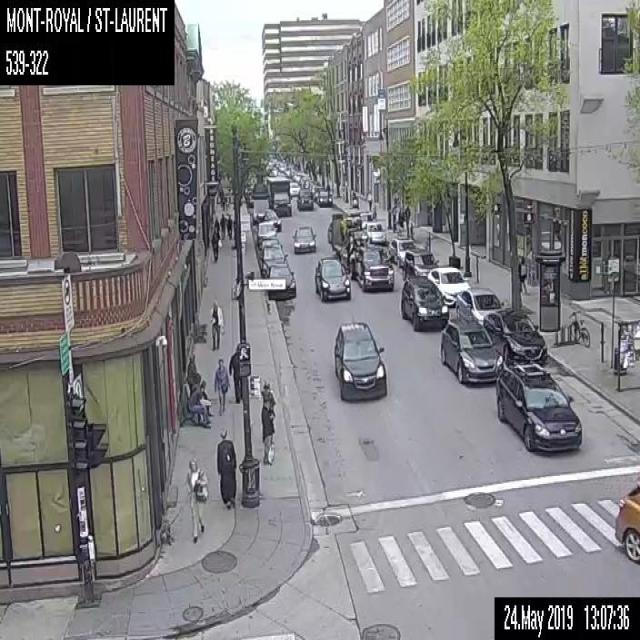pedestrian: (185, 458, 208, 542), (216, 425, 237, 507), (213, 357, 230, 415), (188, 384, 210, 427), (260, 398, 274, 464), (207, 298, 224, 350), (228, 341, 241, 403), (260, 380, 276, 422), (186, 354, 200, 395), (517, 253, 528, 295), (200, 377, 212, 415), (211, 230, 218, 262), (220, 212, 226, 239), (226, 213, 232, 239), (397, 206, 404, 227), (404, 204, 410, 224), (366, 190, 372, 210), (214, 217, 219, 239)
vehicle: (494, 360, 581, 451), (332, 211, 394, 292), (333, 318, 386, 402), (439, 318, 503, 382), (482, 306, 546, 364), (401, 276, 448, 329), (614, 480, 639, 565), (427, 264, 470, 308), (456, 286, 503, 324), (314, 256, 350, 300), (265, 262, 295, 298), (402, 248, 438, 278), (265, 175, 291, 216), (258, 244, 288, 276), (388, 236, 416, 265), (251, 208, 281, 233), (291, 225, 316, 253), (257, 236, 282, 263), (256, 220, 277, 249), (362, 221, 387, 241), (296, 188, 312, 209), (359, 211, 375, 227), (316, 190, 332, 205), (312, 185, 324, 200), (289, 181, 300, 195), (308, 180, 320, 192), (293, 171, 305, 182), (299, 175, 310, 187), (327, 220, 332, 243)
